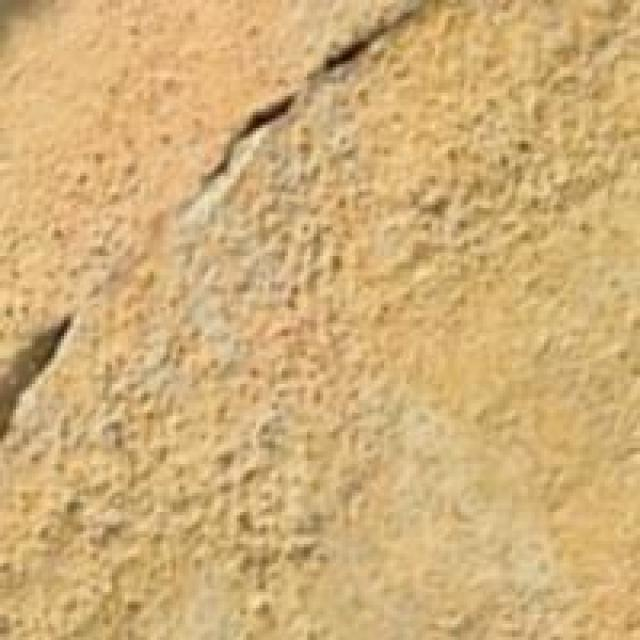Crack: (0, 0, 413, 470)
